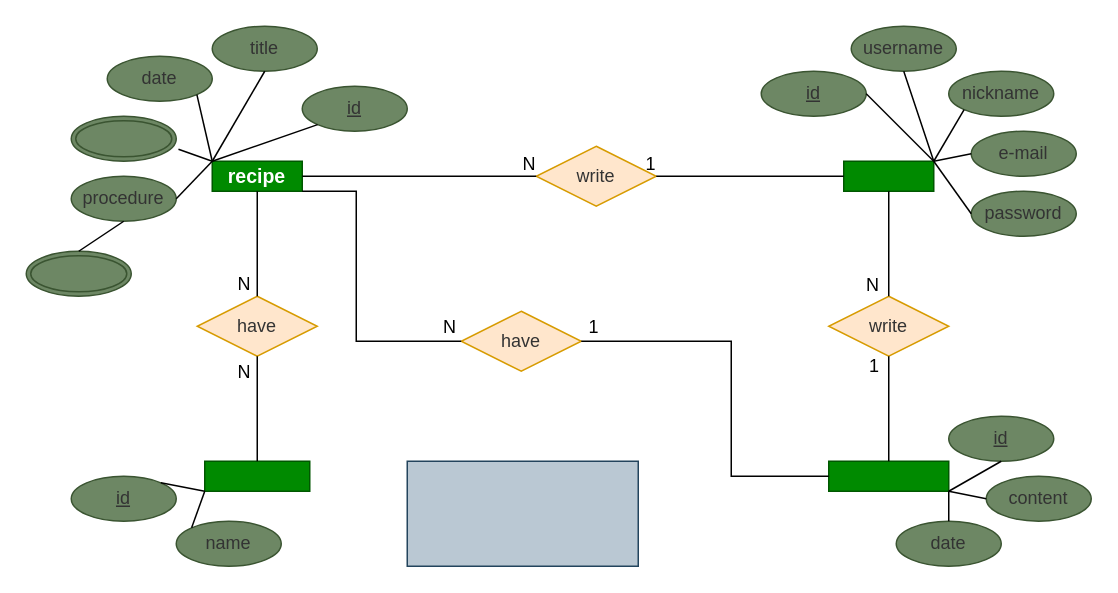
This 1118x593 diagram has some shape labels left out. Here are the shapes that lost their labels. From the top down, the box of each, then its label:
(70, 115, 176, 161): ingredients
(842, 160, 934, 191): users
(25, 250, 131, 296): steps
(203, 460, 310, 491): labels
(827, 460, 949, 491): coments
(406, 460, 638, 566): Family's Recipe book, by Elvia Echauri
